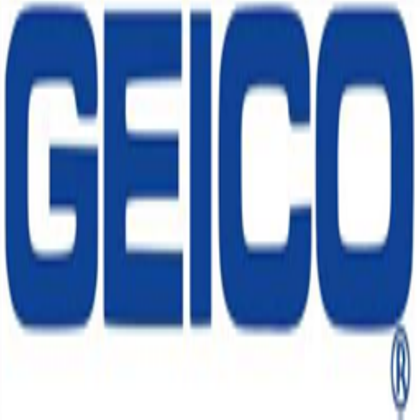geico: (1, 2, 420, 357)
